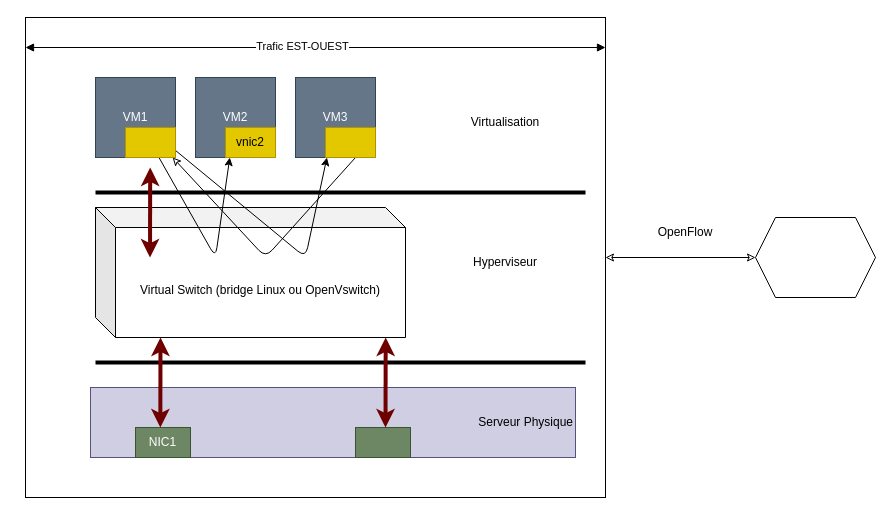
Some shapes in this 893 by 515 pixel diagram are drawn without their labels. The box of each missing label's shape, as (x1, y1, x2, y2) in pixels:
Contrôleur SDN: (754, 216, 876, 298)
NIC2: (354, 426, 410, 458)
vnic1: (124, 126, 176, 158)
vnic3: (324, 126, 376, 158)
